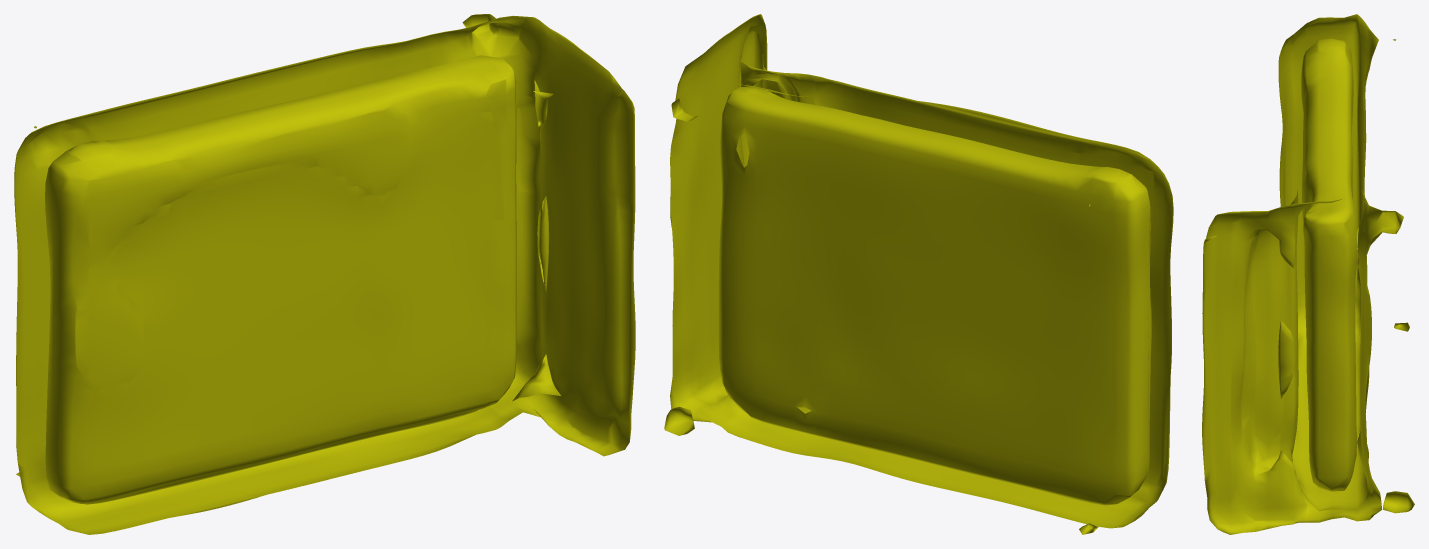
The picture shows the model from 3 angles, left to right: view 1: azimuth 30°, elevation 25°; view 2: azimuth 150°, elevation 25°; view 3: azimuth 270°, elevation 25°; orthographic projection. The views are drawn at different scales.
Visible parts, largest first — view 1: world; view 2: world; view 3: world.
Part boxes in pixels (<box>): world: <box>14,14,635,534</box>; world: <box>664,14,1173,534</box>; world: <box>1202,14,1414,534</box>.
Bounding box in the file's own units: 39.89 × 28.35 × 16.78.
